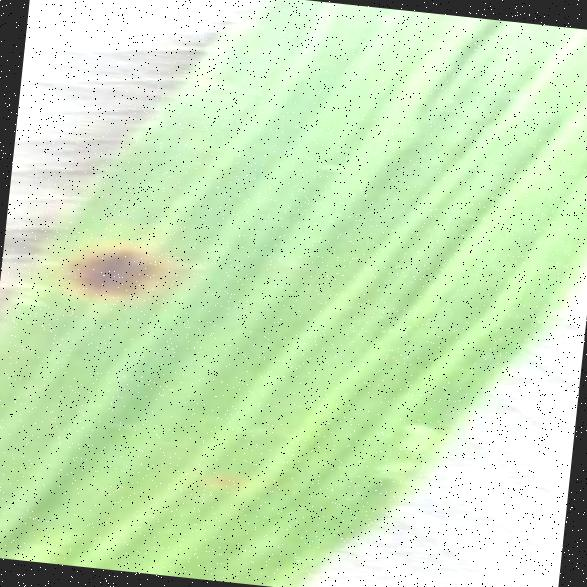Brown_Spot: (23, 202, 191, 335)
